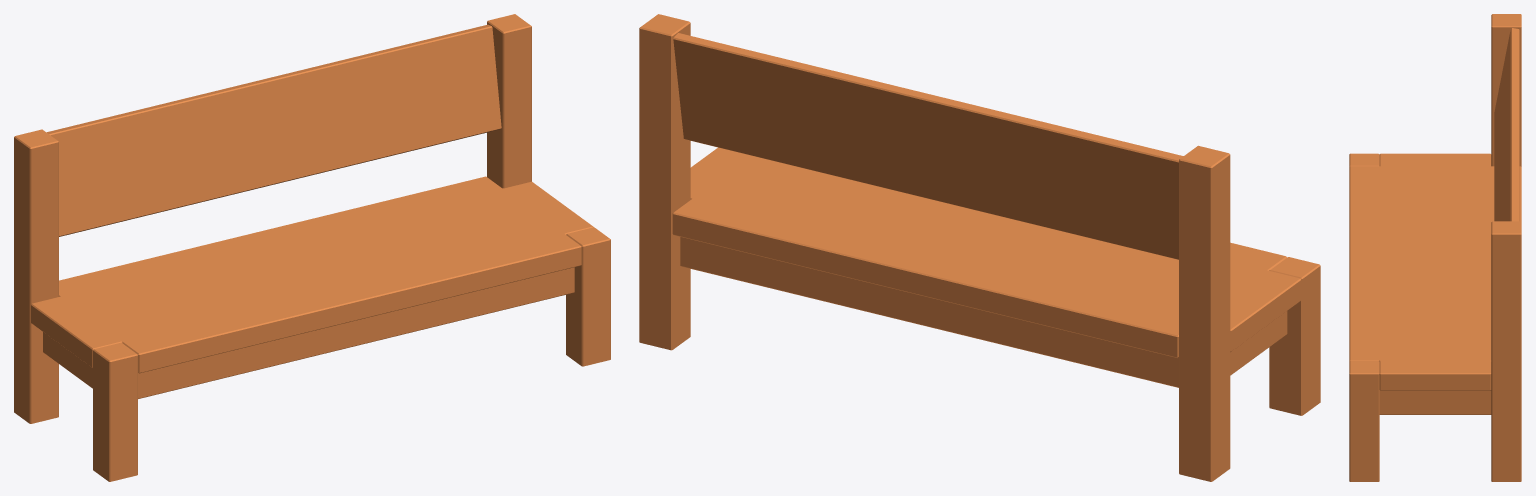
File: sofa.fbx
The picture shows the model from 3 angles, left to right: view 1: azimuth 30°, elevation 25°; view 2: azimuth 150°, elevation 25°; view 3: azimuth 270°, elevation 25°; orthographic projection. The views are drawn at different scales.
Parts seen in each view (by area): view 1: sofa; view 2: sofa; view 3: sofa.
Part boxes in pixels (x1=…): sofa: x1=14, y1=14, x2=610, y2=481; sofa: x1=639, y1=14, x2=1320, y2=481; sofa: x1=1349, y1=14, x2=1521, y2=481.
Size of the model in its own units: 199 by 105 by 65.85.
